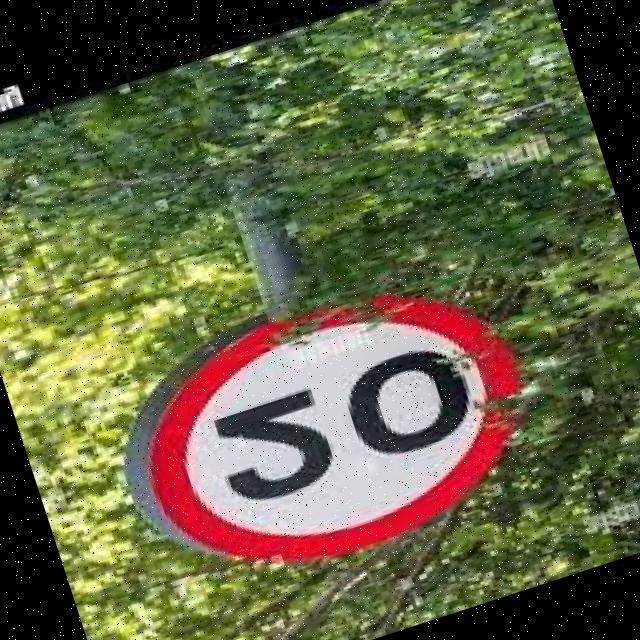speed_limit_20: (111, 254, 552, 610)
